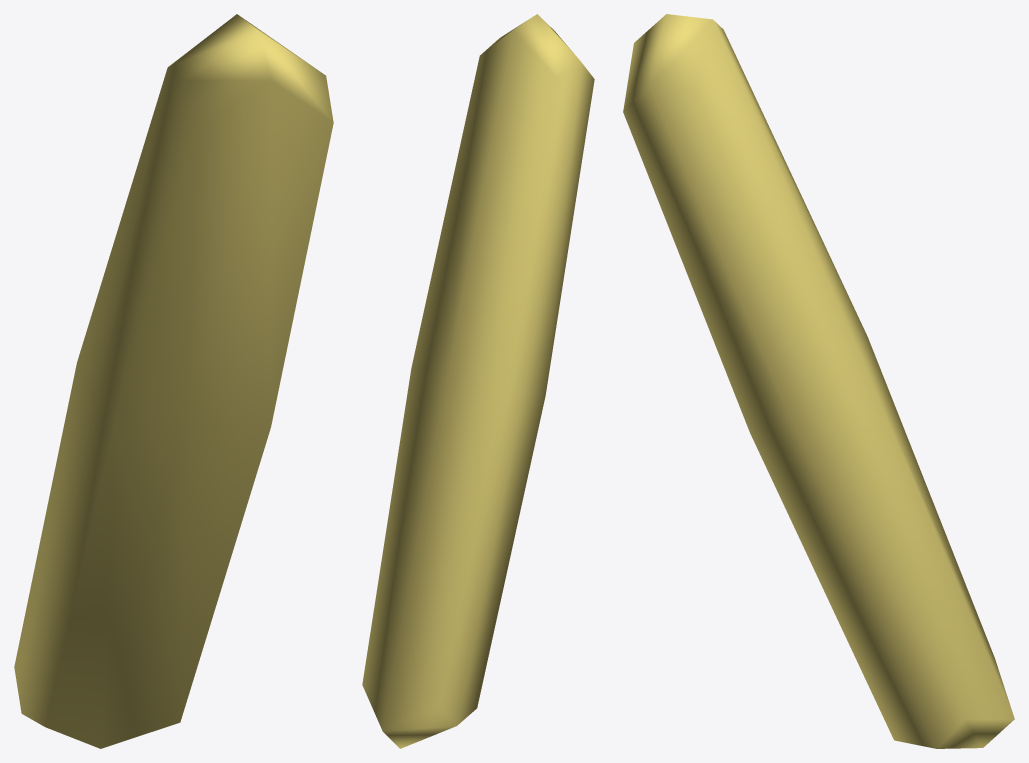
The model's file is nucleus-of-hypoglossal-nerve-l.glb.
3 renders of one model, left to right at view 1: azimuth 30°, elevation 25°; view 2: azimuth 150°, elevation 25°; view 3: azimuth 270°, elevation 25°, orthographic. The views are drawn at different scales.
Parts seen in each view (by area): view 1: Nucleus of hypoglossal nerve.l; view 2: Nucleus of hypoglossal nerve.l; view 3: Nucleus of hypoglossal nerve.l.
Part boxes in pixels (x1=…): Nucleus of hypoglossal nerve.l: x1=14, y1=14, x2=333, y2=748; Nucleus of hypoglossal nerve.l: x1=362, y1=14, x2=594, y2=748; Nucleus of hypoglossal nerve.l: x1=623, y1=14, x2=1014, y2=748.
Bounding box in the file's own units: 0.00144 × 0.00771 × 0.00373.
